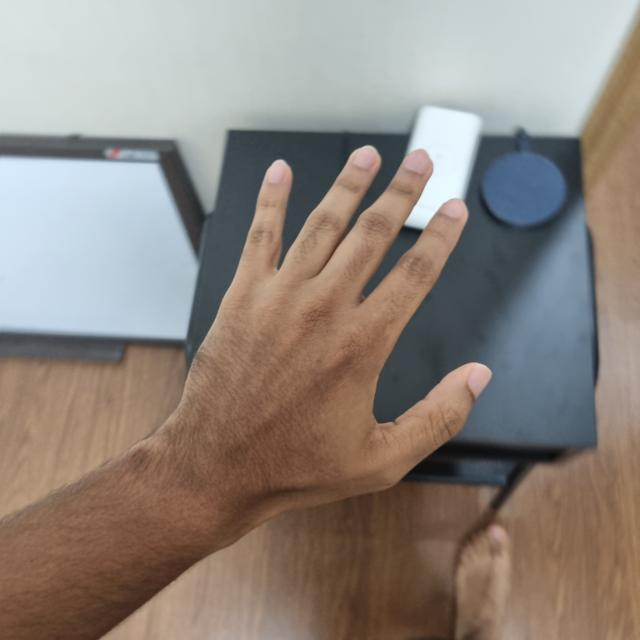Paper: (176, 153, 481, 505)
